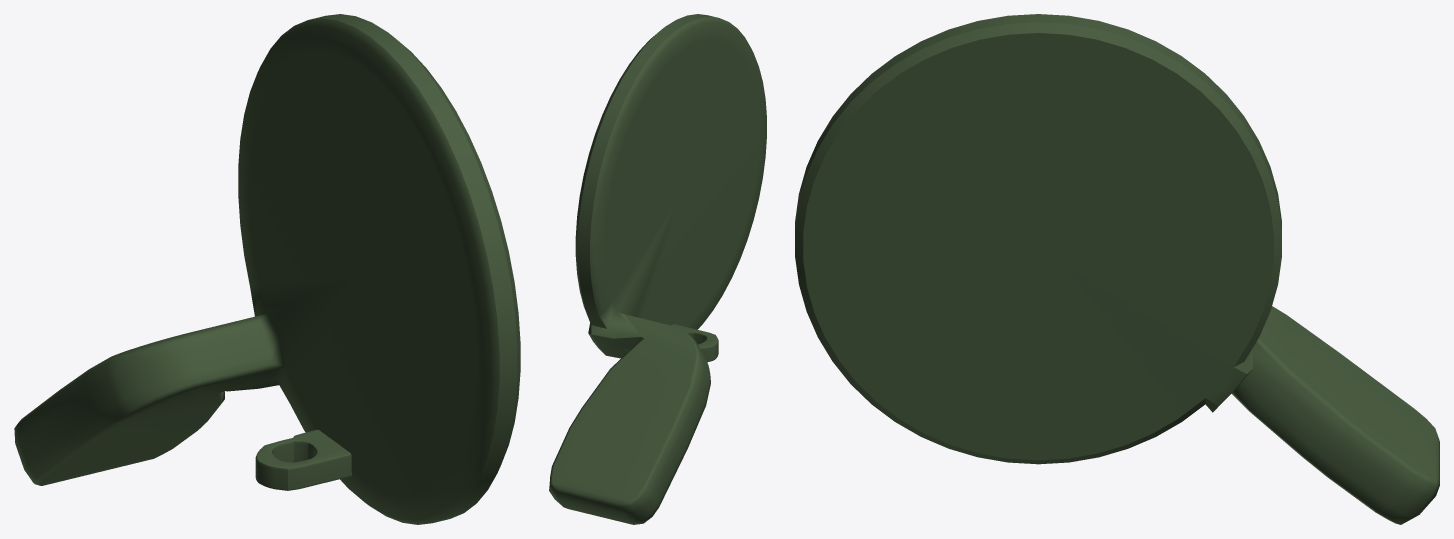
Rendered from Pulley.fbx.
3 renders of one model, left to right at view 1: azimuth 30°, elevation 25°; view 2: azimuth 150°, elevation 25°; view 3: azimuth 270°, elevation 25°, orthographic. The views are drawn at different scales.
Parts seen in each view (by area): view 1: Pulley; view 2: Pulley; view 3: Pulley.
Boxes of the visible parts, box(x1,y1,x2,y2) form: Pulley: box(14, 14, 520, 524); Pulley: box(549, 14, 766, 524); Pulley: box(795, 14, 1439, 524).
Bounding box in the file's own units: 10.43 × 30.03 × 33.49.
Materials: 1 (1 with a texture image).
